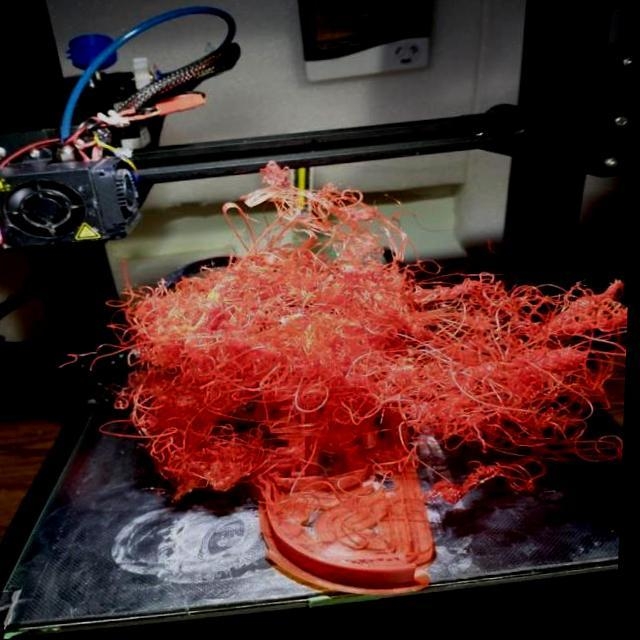spaghetti: (107, 254, 297, 502), (440, 277, 633, 484), (286, 314, 461, 504), (251, 173, 439, 312)
